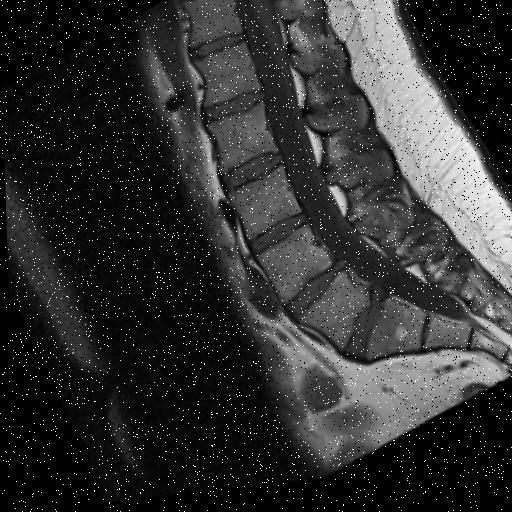L1: (194, 47, 260, 111)
L2: (209, 109, 276, 178)
L3: (227, 172, 299, 245)
L4: (255, 230, 330, 309)
L5: (297, 280, 367, 355)
S1: (365, 308, 423, 368)
